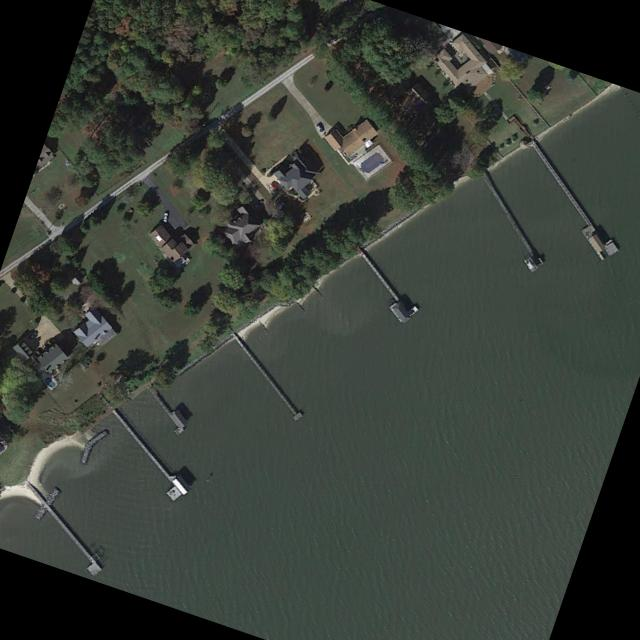small-vehicle: (26, 329, 37, 339), (313, 122, 323, 132), (269, 180, 278, 189), (161, 210, 168, 221)
